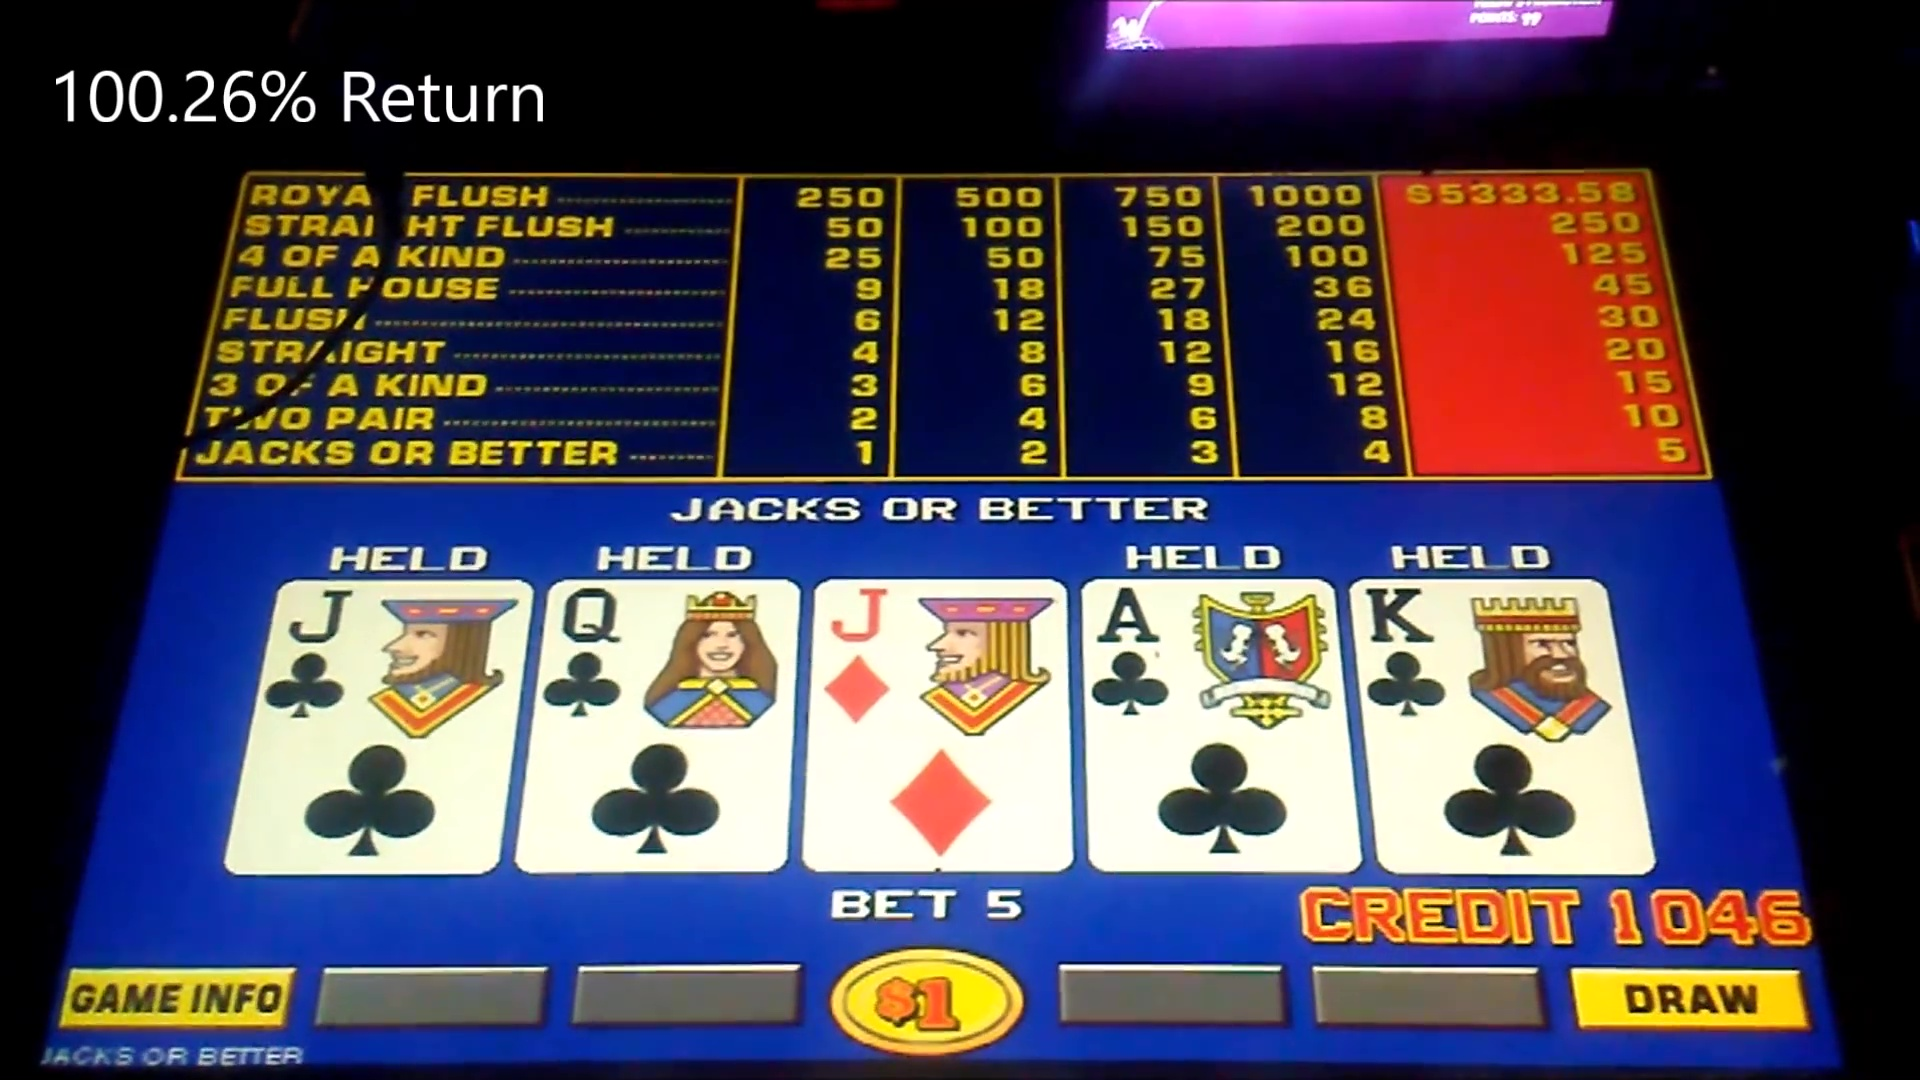AC: (1087, 582, 1333, 727)
JC: (276, 582, 516, 733)
JD: (819, 584, 1063, 736)
KC: (1361, 579, 1600, 736)
QC: (556, 585, 786, 733)
